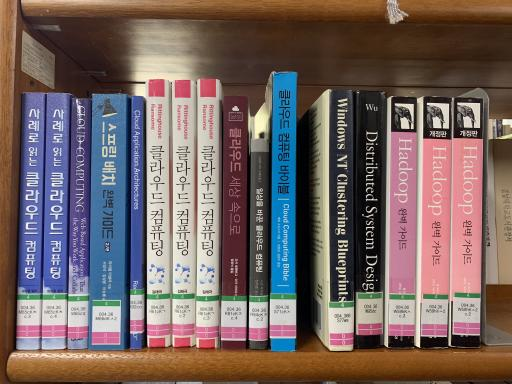book-spine: (88, 94, 126, 350), (450, 97, 483, 348), (420, 96, 452, 348), (355, 90, 386, 349), (270, 72, 297, 351), (42, 94, 71, 350), (388, 96, 417, 348), (17, 93, 45, 350), (222, 95, 248, 350), (328, 90, 353, 351), (196, 79, 220, 348), (172, 80, 196, 347), (67, 99, 92, 350), (147, 79, 170, 347), (249, 139, 269, 350), (131, 96, 144, 349)
